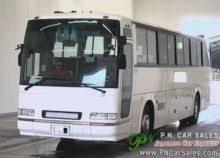bus: (18, 13, 208, 150)
